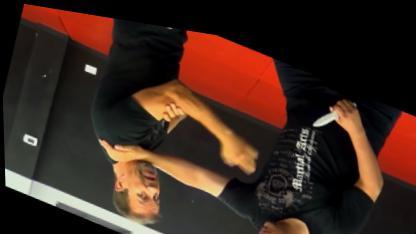knife: (308, 70, 361, 134)
